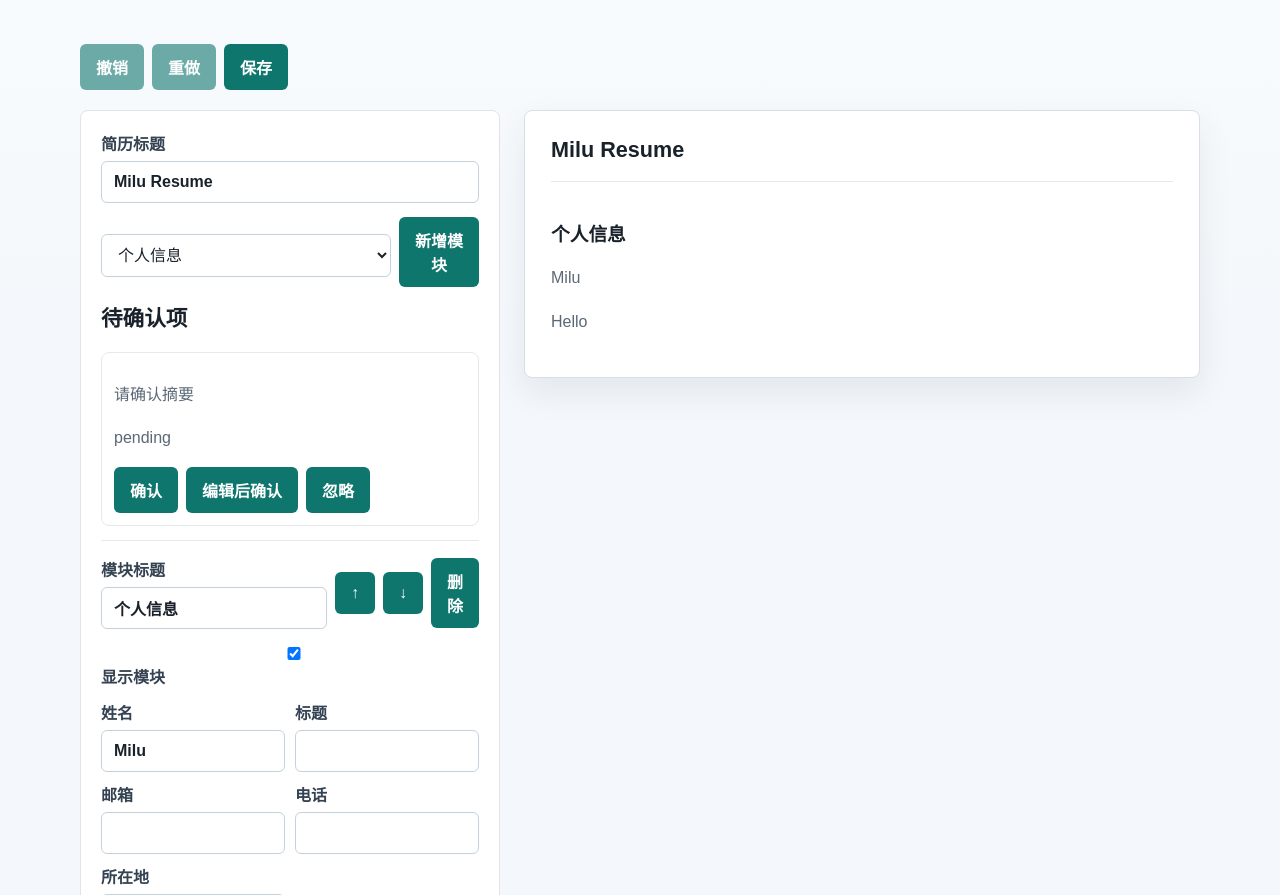
Test: ResumeEditor › updates confirmation item statuses
Expected: the text "pending" is shown, [114,429,171,446]
Step 1. Click the button "确认" → (146, 490), box [114,467,178,513]
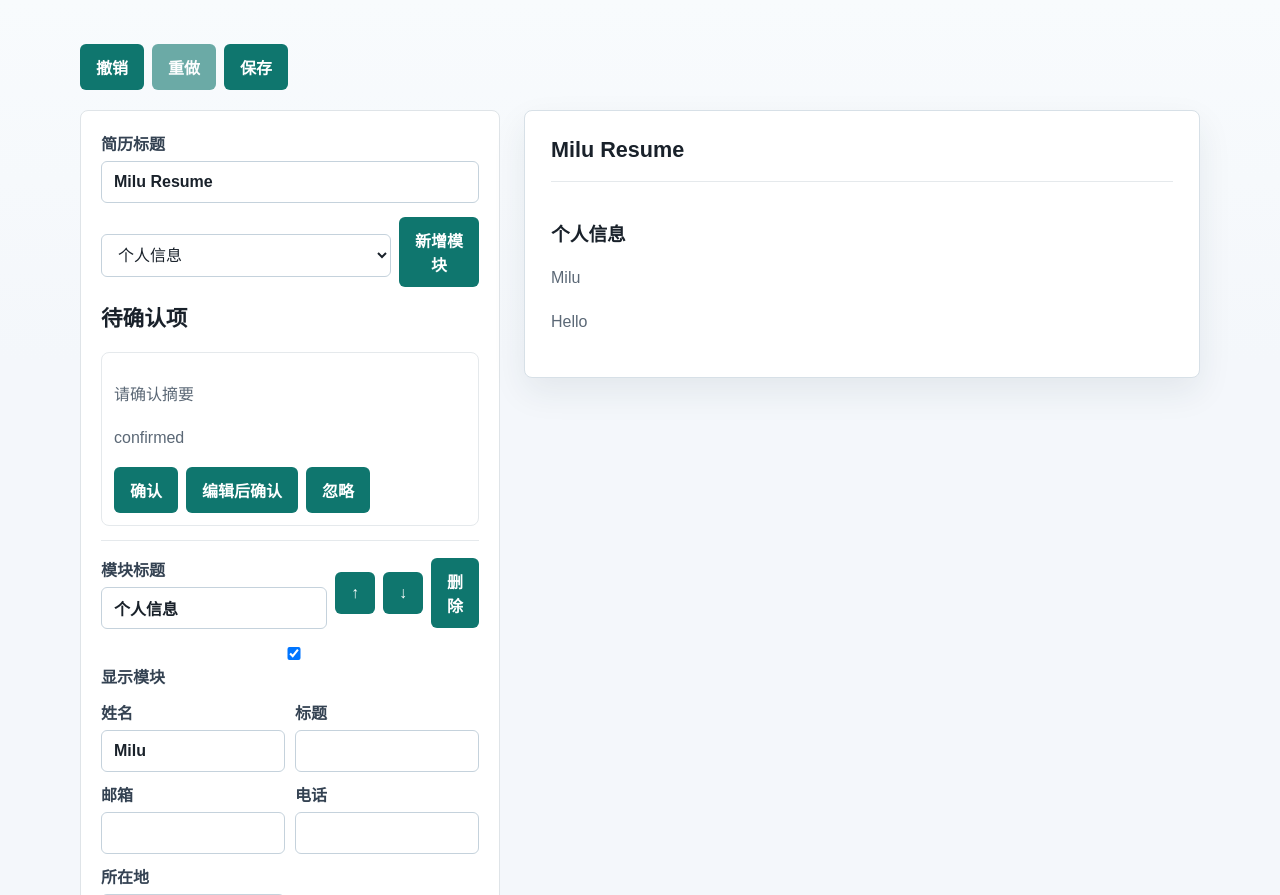
Now the text "confirmed" is shown, box [114,429,184,446]
